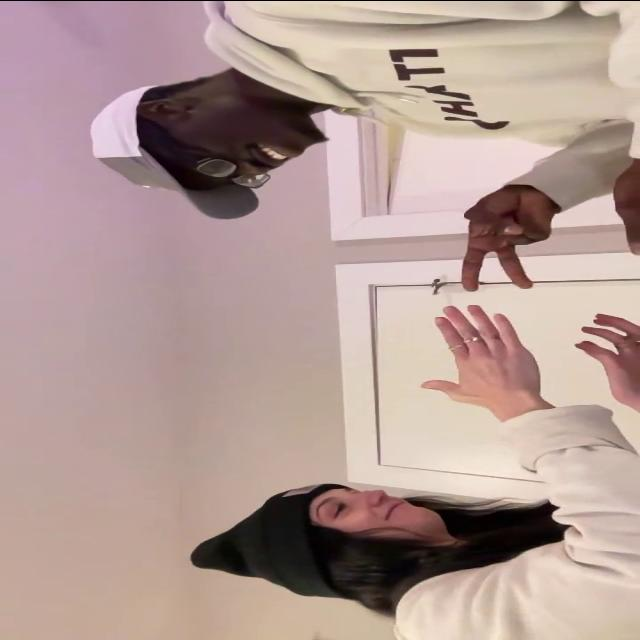Paper: (419, 302, 548, 414)
Scissors: (461, 188, 564, 292)
